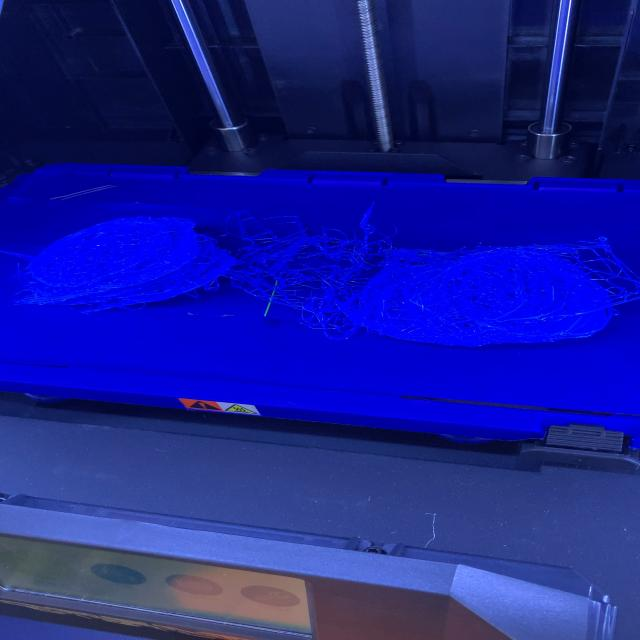spaghetti: (8, 201, 638, 347), (334, 238, 633, 347), (10, 214, 239, 314)
